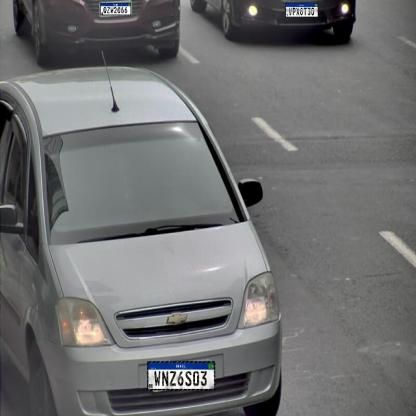PlacaM: (147, 362, 215, 390), (286, 3, 318, 17), (100, 3, 131, 15)
